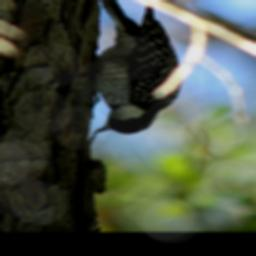Woodpecker: (89, 0, 183, 135)
